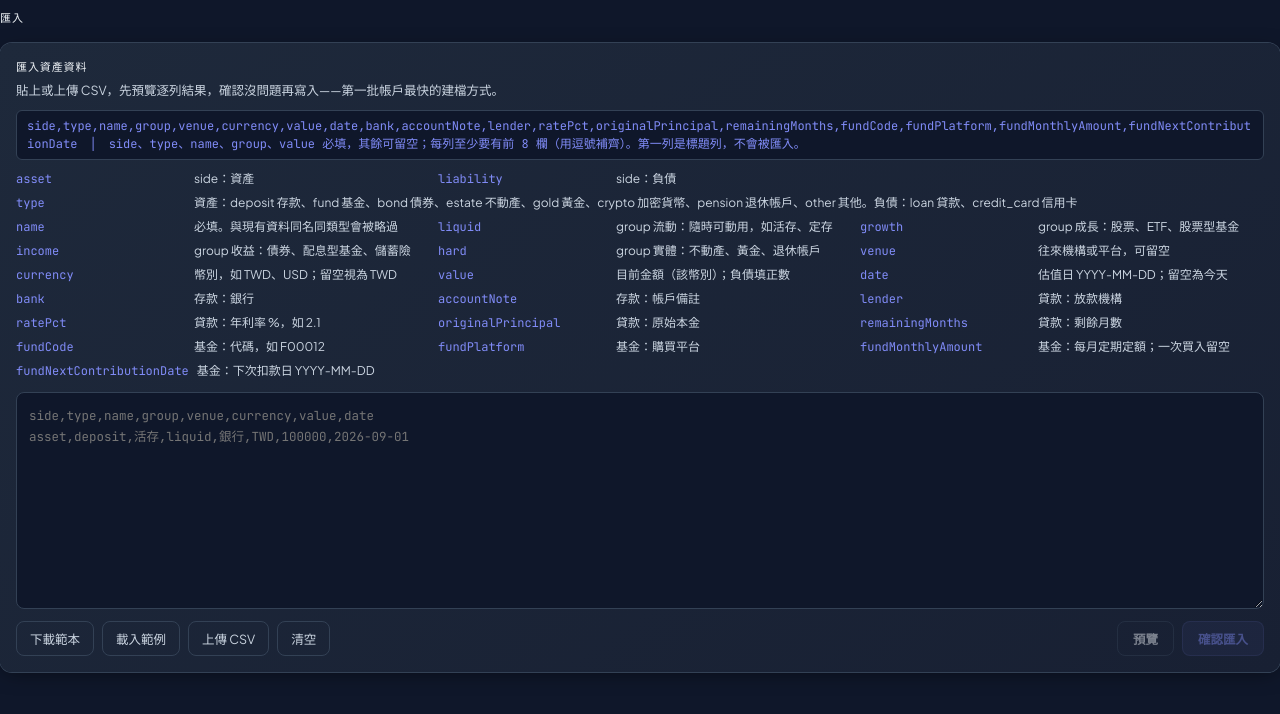
Scenario: the row-by-row result › keeps errors quiet at zero
Replace the text in the text box with "csv text" at (640, 500), box 16,392 -> 1264,609
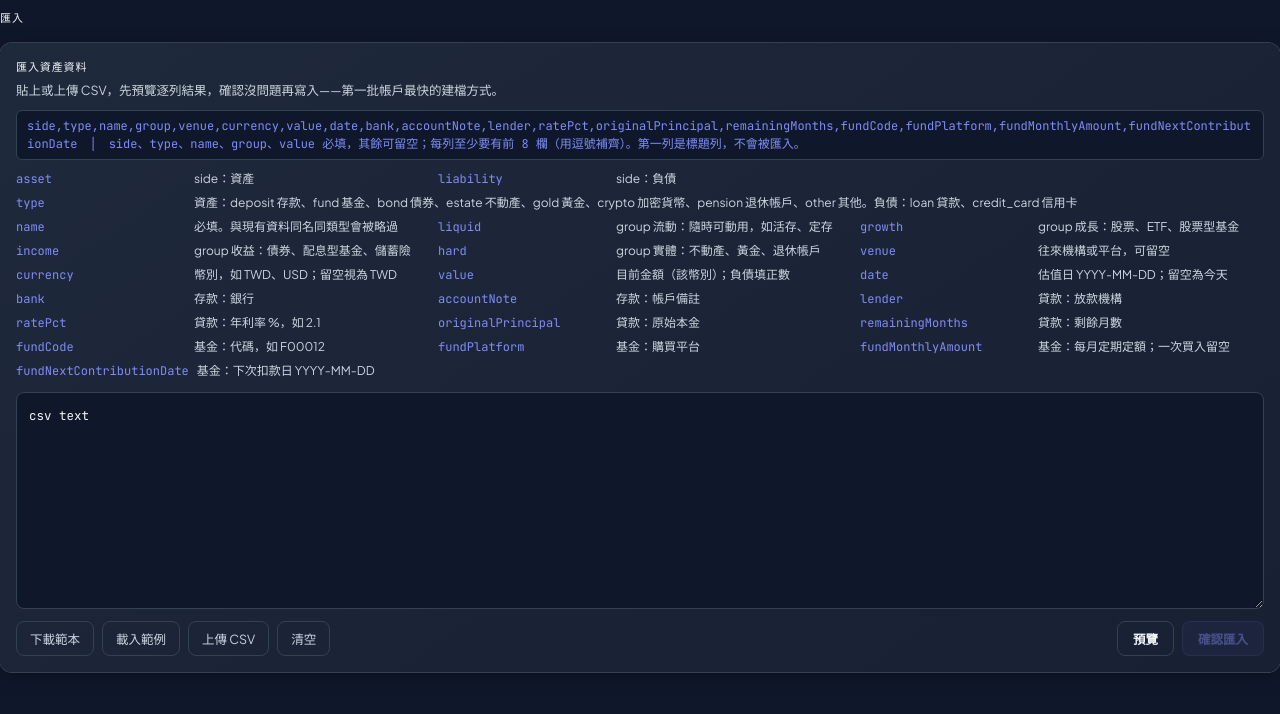
Click the button "預覽" at (1146, 638), box 1117,621 -> 1174,656
(page scrolled)
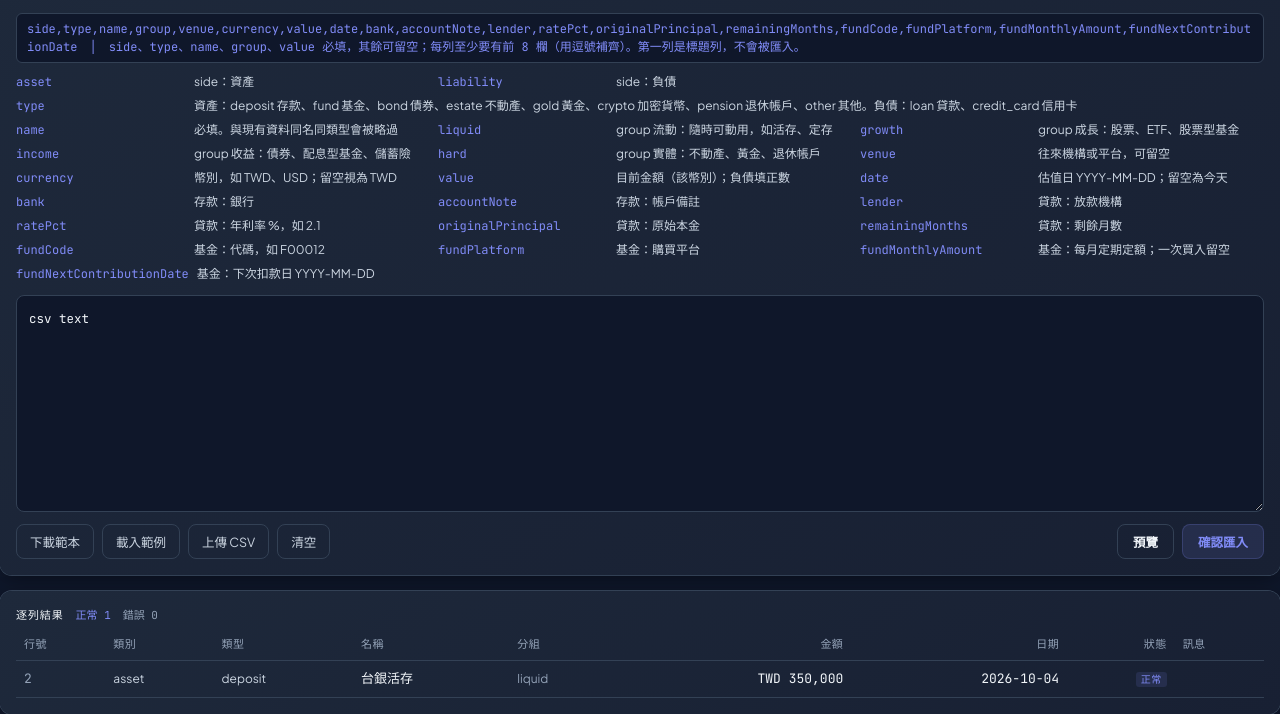
Expected: the text "逐列結果" is shown, 16,607 -> 64,624
